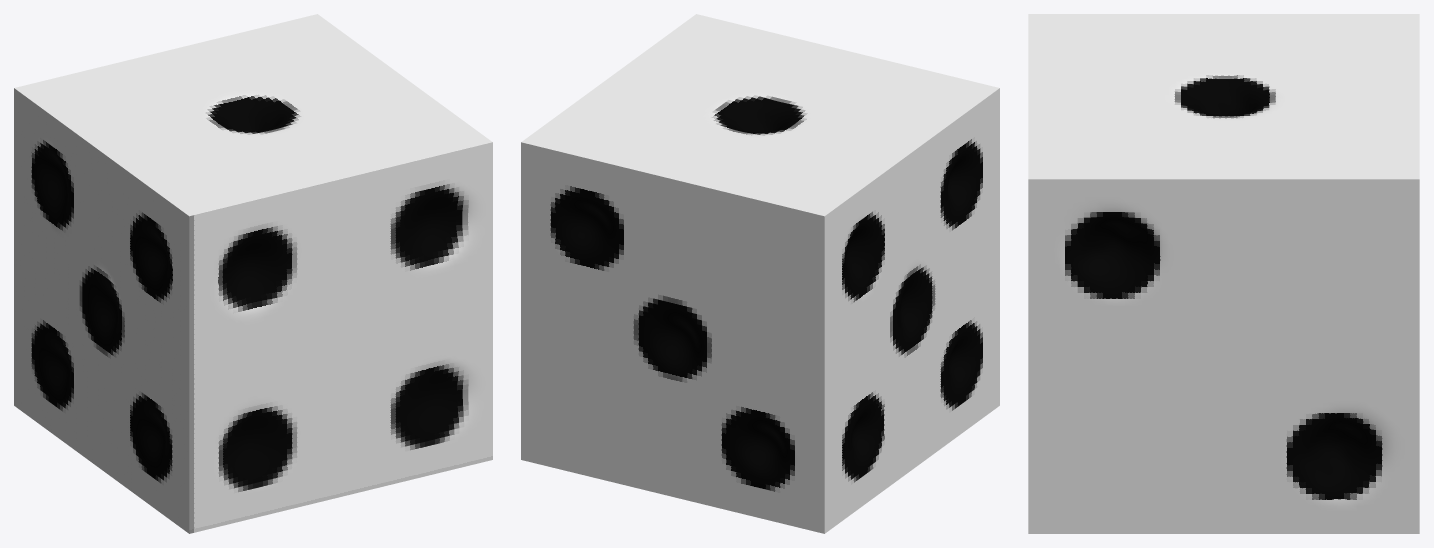
The model's file is dice_model.fbx.
3 views of the same model, side by side, from view 1: azimuth 30°, elevation 25°; view 2: azimuth 150°, elevation 25°; view 3: azimuth 270°, elevation 25° (orthographic). The views are drawn at different scales.
Parts seen in each view (by area): view 1: Cube.003, Cube.005, Cube.002; view 2: Cube.006, Cube.005, Cube.002; view 3: Cube.001, Cube.002.
Part boxes in pixels (box(x1,y1,x2,y2)): Cube.003: box(189, 142, 492, 533); Cube.005: box(14, 88, 189, 533); Cube.002: box(14, 14, 492, 216); Cube.006: box(521, 142, 824, 533); Cube.005: box(824, 88, 999, 533); Cube.002: box(521, 14, 999, 216); Cube.001: box(1028, 179, 1419, 533); Cube.002: box(1028, 14, 1419, 179).
Bounding box in the file's own units: 100 × 100 × 100.
Materials: 6 (6 with a texture image).
